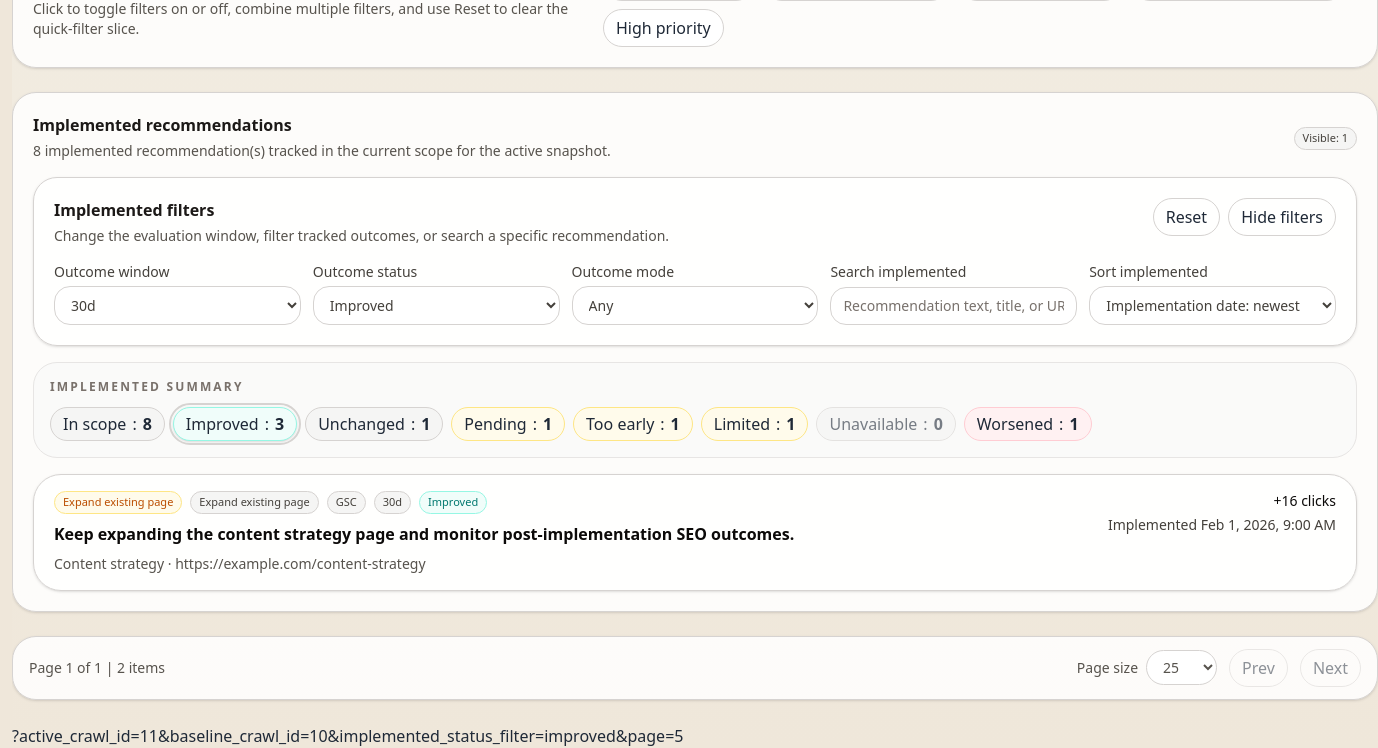
SiteContentRecommendationsPage › clicking the Total summary badge clears the quick filter to all and highlights the active badge
The width and height of the screenshot is (1378, 748).
(page scrolled)
Click the button with aria-label "In scope: 8".
click(107, 424)  # box x1=50 y1=407 x2=165 y2=441
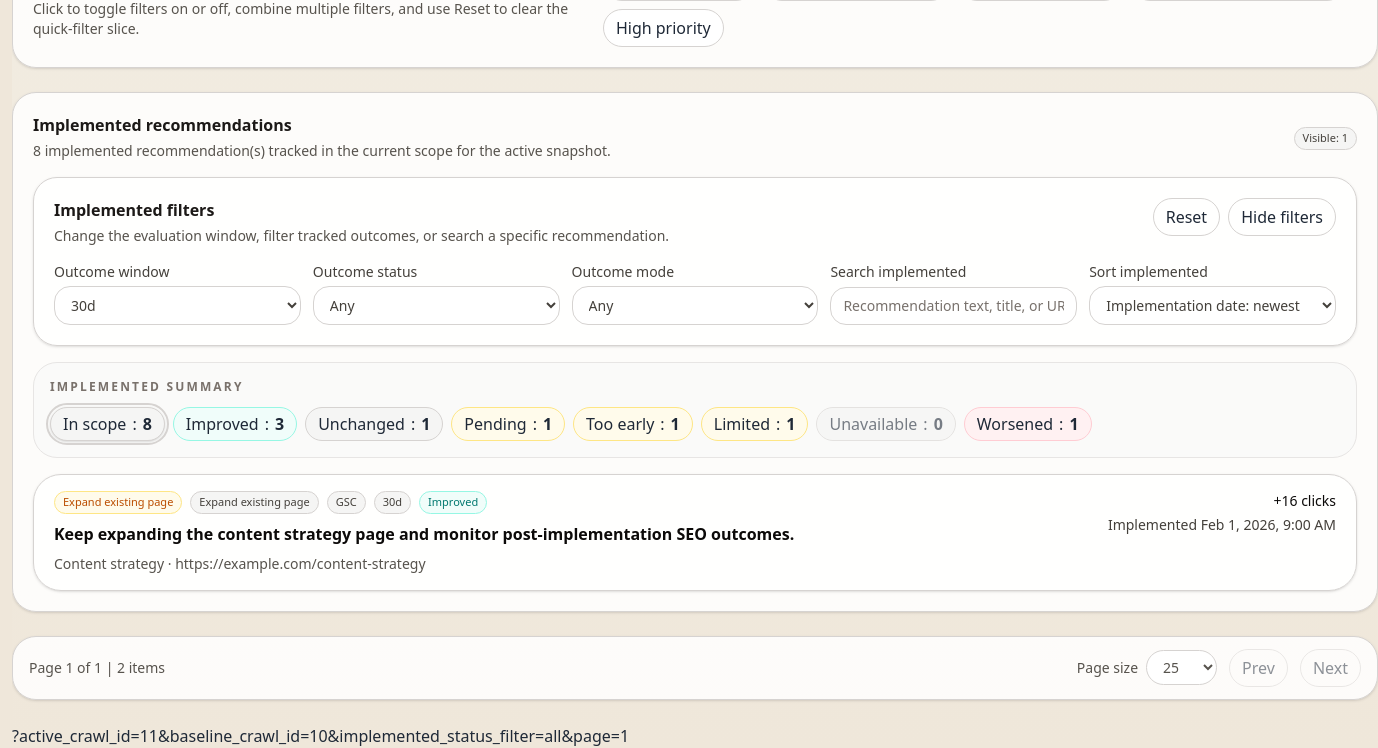
Result: the text with test id "location-search" shows "implemented_status_filter=all" at x1=12 y1=724 x2=629 y2=746
Result: the text with test id "location-search" shows "page=1" at x1=12 y1=724 x2=629 y2=746
